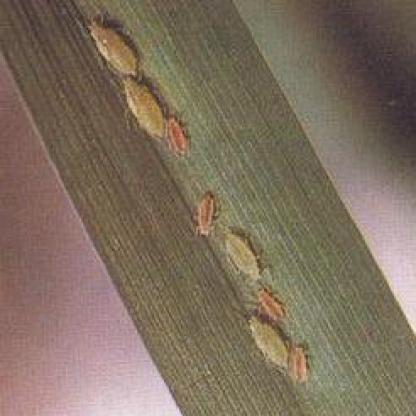aphid: (113, 74, 177, 152), (73, 9, 142, 80), (238, 309, 295, 369), (214, 223, 268, 283), (186, 184, 228, 234), (165, 107, 196, 159), (255, 280, 290, 325), (292, 340, 313, 386)
